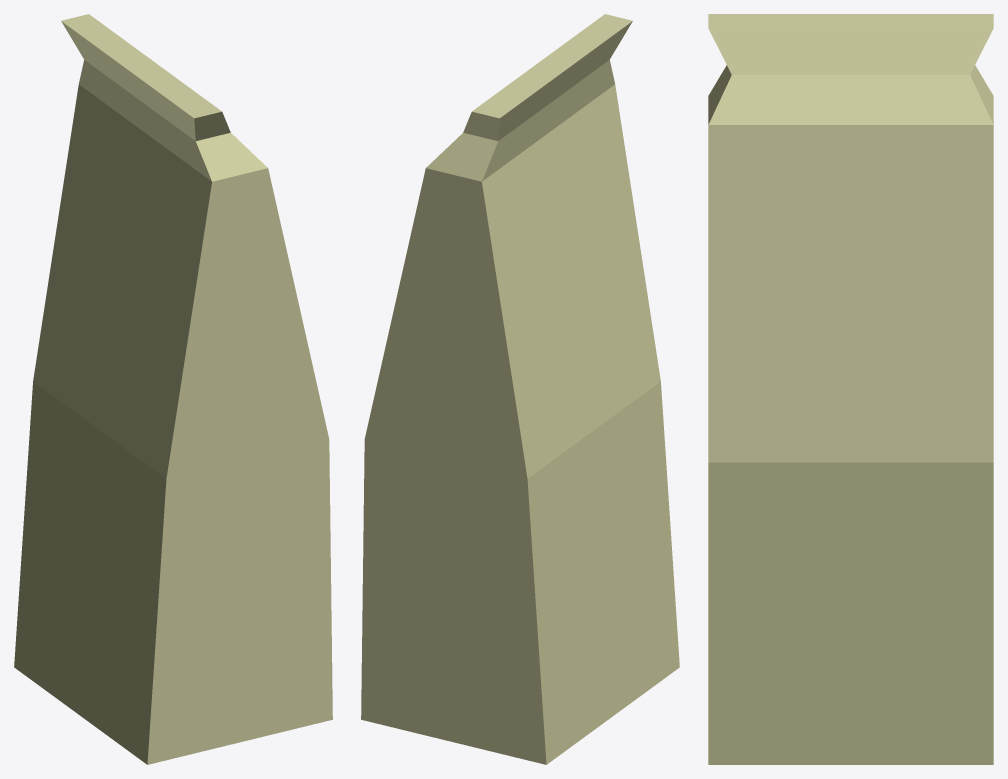
The model's file is Bag_coffe.fbx.
The picture shows the model from 3 angles, left to right: view 1: azimuth 30°, elevation 25°; view 2: azimuth 150°, elevation 25°; view 3: azimuth 270°, elevation 25°; orthographic projection. The views are drawn at different scales.
Parts seen in each view (by area): view 1: bag coffe.011; view 2: bag coffe.011; view 3: bag coffe.011.
Part boxes in pixels (x1,y1,x2,y2): bag coffe.011: [14, 14, 332, 764]; bag coffe.011: [361, 14, 679, 764]; bag coffe.011: [708, 14, 993, 764].
Size of the model in its own units: 0.0556 by 0.1819 by 0.0692.
